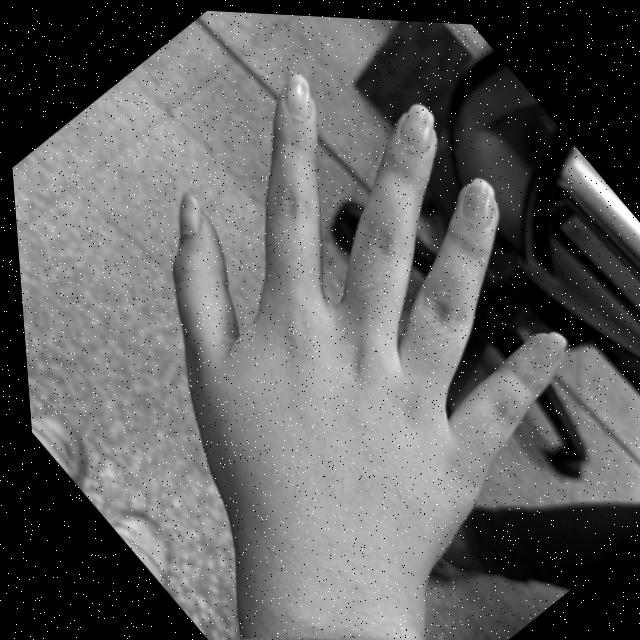no-gloves: (34, 2, 640, 630)
